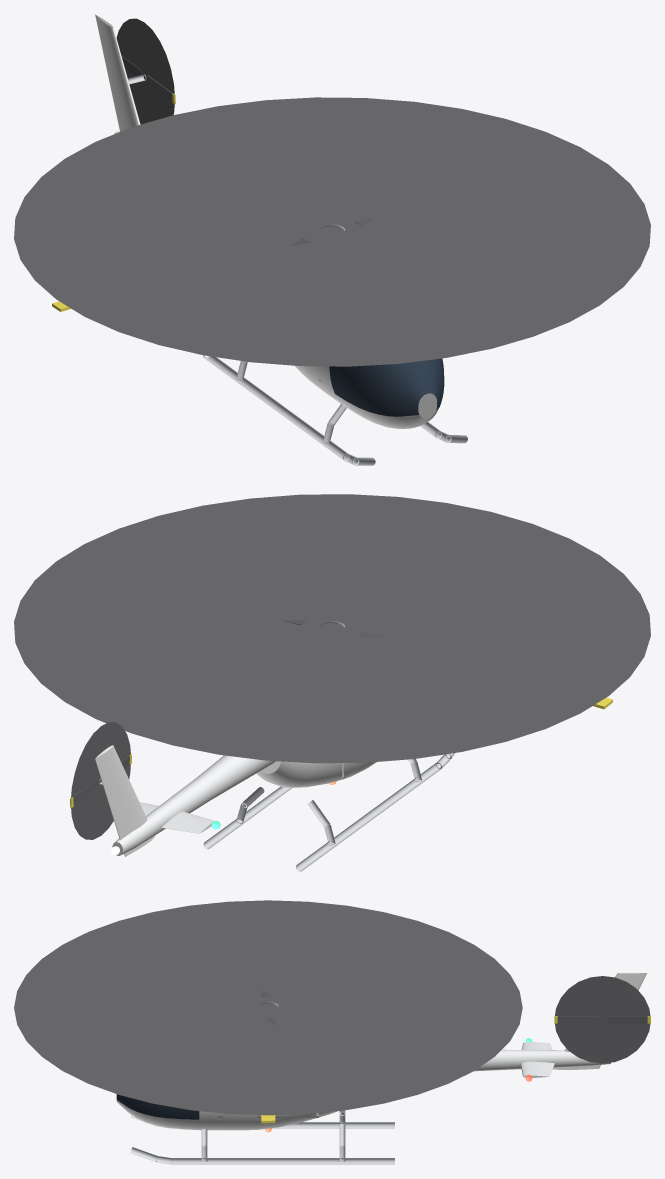
The picture shows the model from 3 angles, top to bottom: view 1: azimuth 30°, elevation 25°; view 2: azimuth 150°, elevation 25°; view 3: azimuth 270°, elevation 25°; orthographic projection. The views are drawn at different scales.
Visible parts, largest first — view 1: airframe; view 2: airframe; view 3: airframe, tail.
Boxes of the visible parts, left/top/right/bottom form: airframe: left=14, top=14, right=650, bottom=465; airframe: left=14, top=494, right=650, bottom=871; airframe: left=14, top=900, right=650, bottom=1164; tail: left=554, top=1015, right=650, bottom=1023.
Size of the model in its own units: 10.2 by 3.96 by 12.77.
